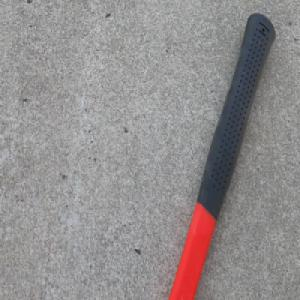Hammer: (166, 10, 277, 300)
